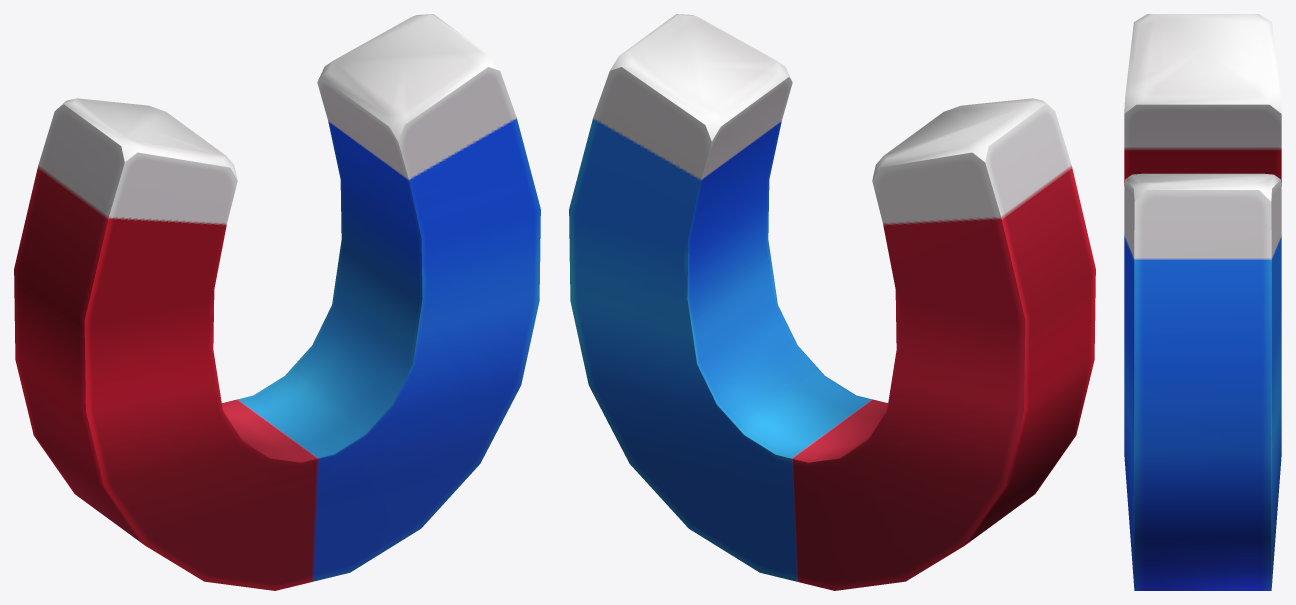
The model's file is Magnet.fbx.
3 views of the same model, side by side, from view 1: azimuth 30°, elevation 25°; view 2: azimuth 150°, elevation 25°; view 3: azimuth 270°, elevation 25° (orthographic). The views are drawn at different scales.
Parts seen in each view (by area): view 1: Magnet; view 2: Magnet; view 3: Magnet.
Part boxes in pixels (box(x1,y1,x2,y2)): Magnet: box(14, 14, 540, 590); Magnet: box(569, 14, 1095, 590); Magnet: box(1124, 14, 1281, 590).
Size of the model in its own units: 1 by 1.01 by 0.3083.
